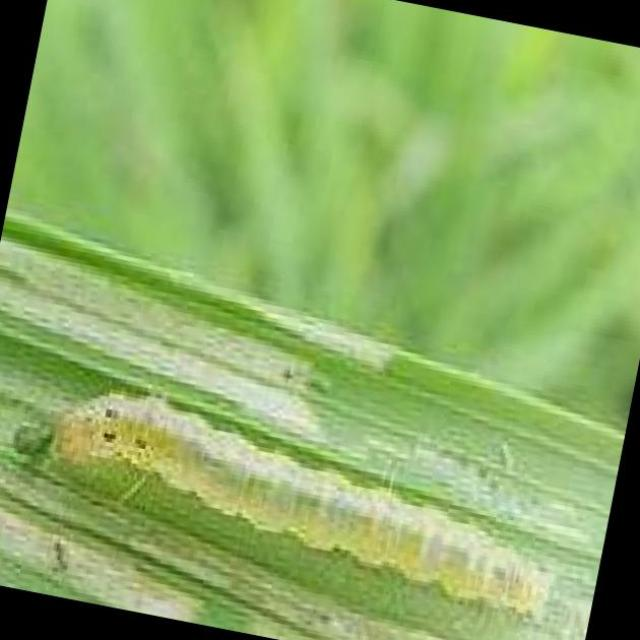leaf folder: (54, 396, 552, 615)
